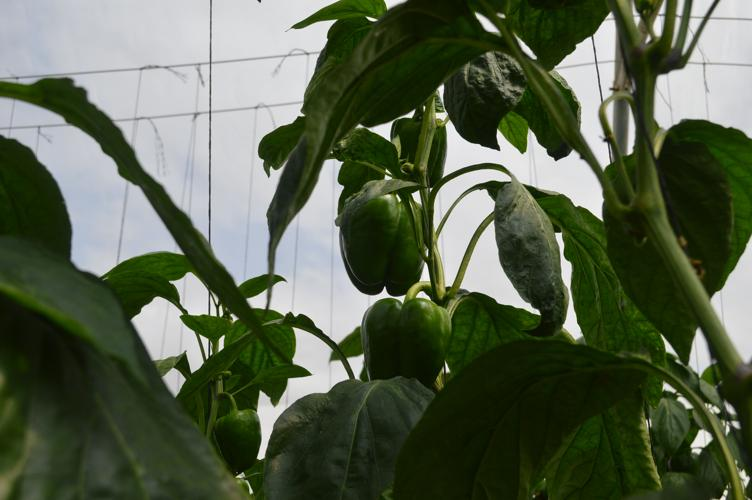BellPepper: (337, 190, 431, 292), (350, 297, 453, 387), (207, 410, 267, 478)
